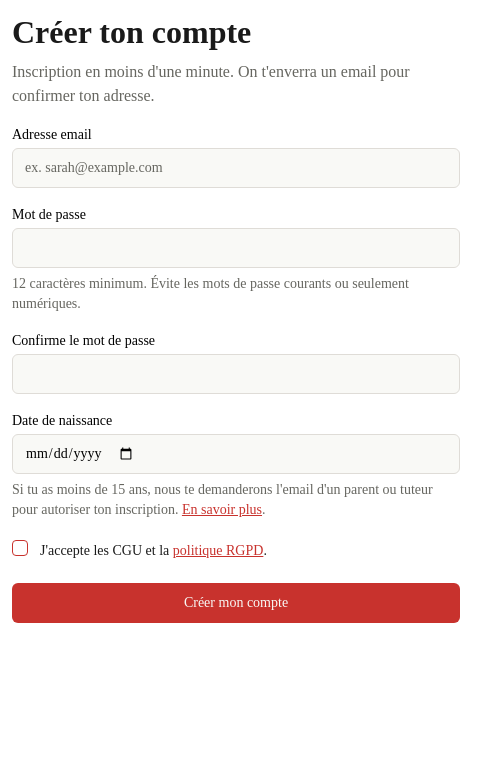
Test: SignupForm › conditionally renders the parent_email field when birth_date implies age < 15
Expected: the field labelled "email de ton parent" is not shown
# ≥ 15 → still hidden.
Type "2008-01-15" into the date field labelled "Date de naissance" at x=236, y=454, box [12,434,460,474]
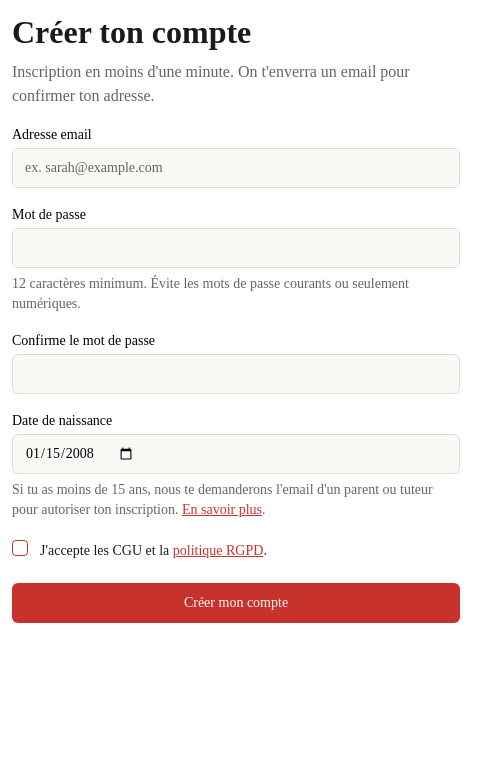
Expected: the field labelled "email de ton parent" is not shown
Type "2014-01-15" into the date field labelled "Date de naissance" at x=236, y=454, box [12,434,460,474]
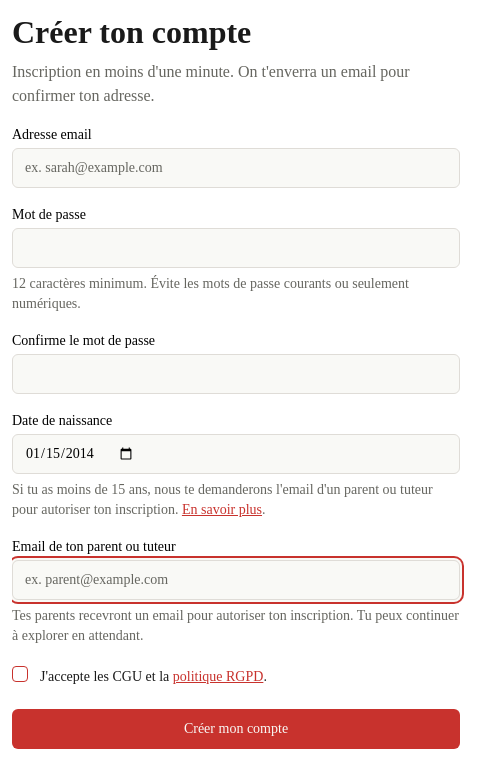
Now the field labelled "Email de ton parent ou tuteur" is shown, box [12,560,460,600]
